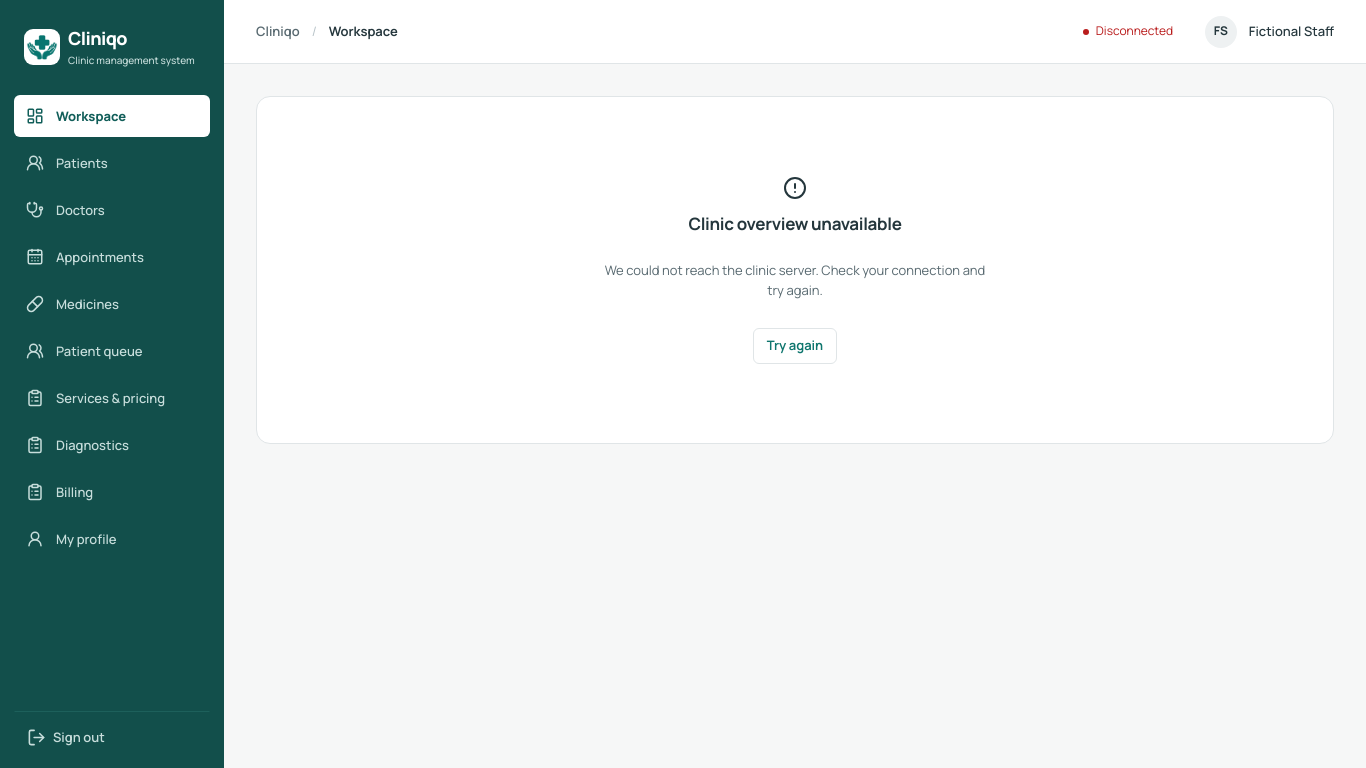
Test: appointment and dashboard components › keeps dashboard counts unavailable on failure and displays genuine zero totals after retry
Check: the heading "Clinic overview unavailable" is shown, box [688, 212, 902, 236]
Check: the text "Active patients" is not shown
Click the button "Try again".
click(795, 346)  # box [753, 328, 837, 364]
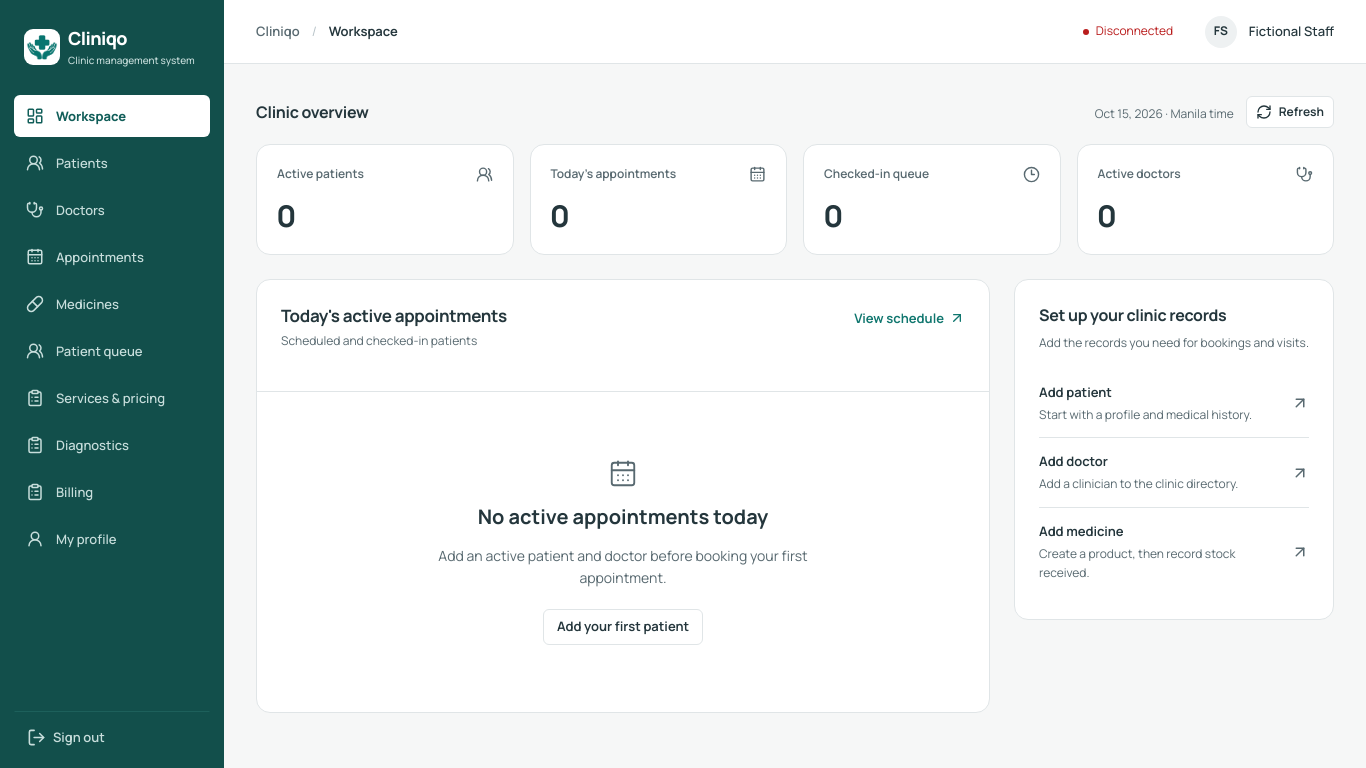
Check: the text "Active patients" is shown, box [277, 165, 492, 184]
Check: the element showing "0" below "Checked-in queue" is shown, box [824, 195, 842, 236]
Check: the heading "No active appointments today" is shown, box [478, 503, 768, 531]
